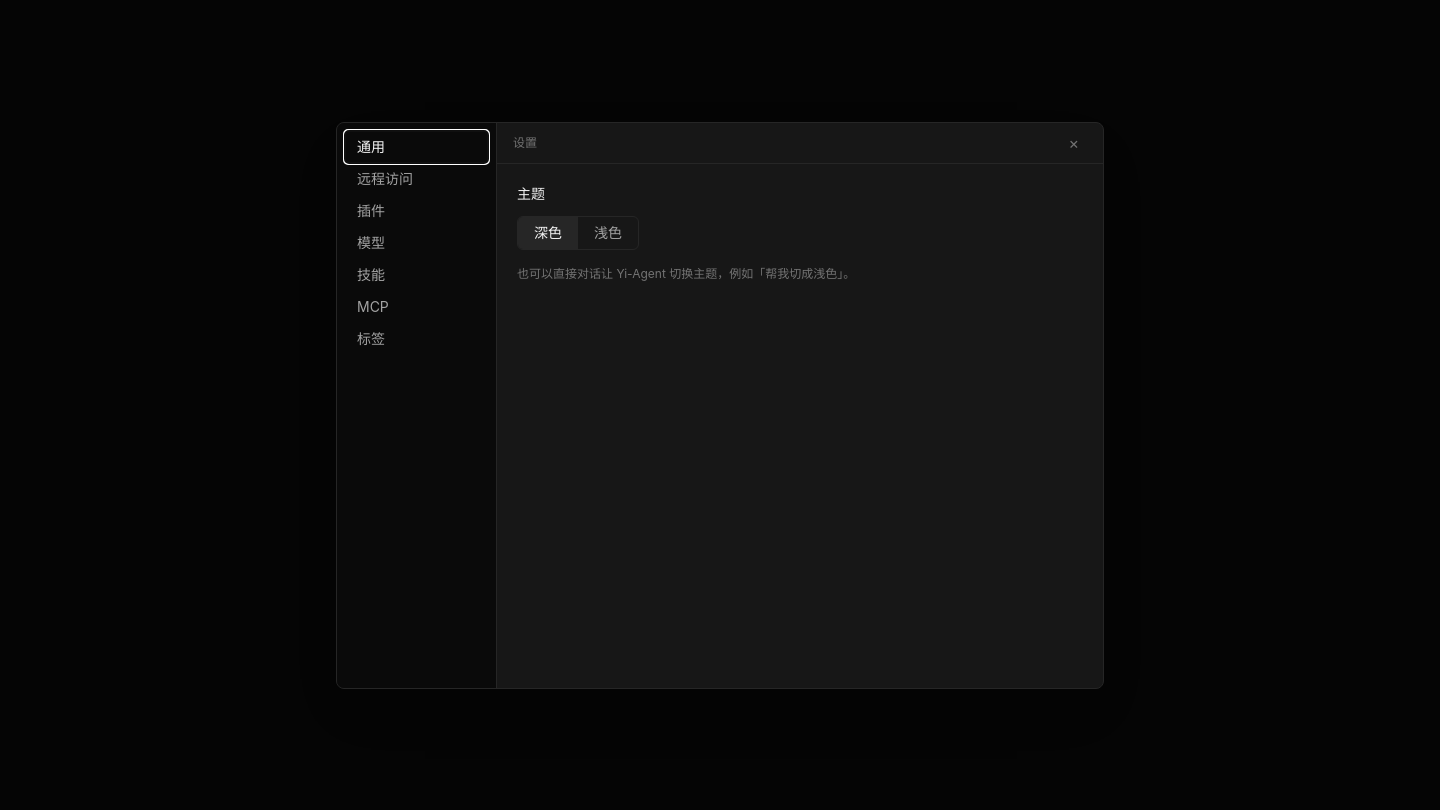
Test: SettingsDialog › switches to the 远程访问 tab and shows its panel
The image size is (1440, 810).
Click the tab "远程访问". click: x=416, y=178
box: x1=345 y1=162 x2=488 y2=194
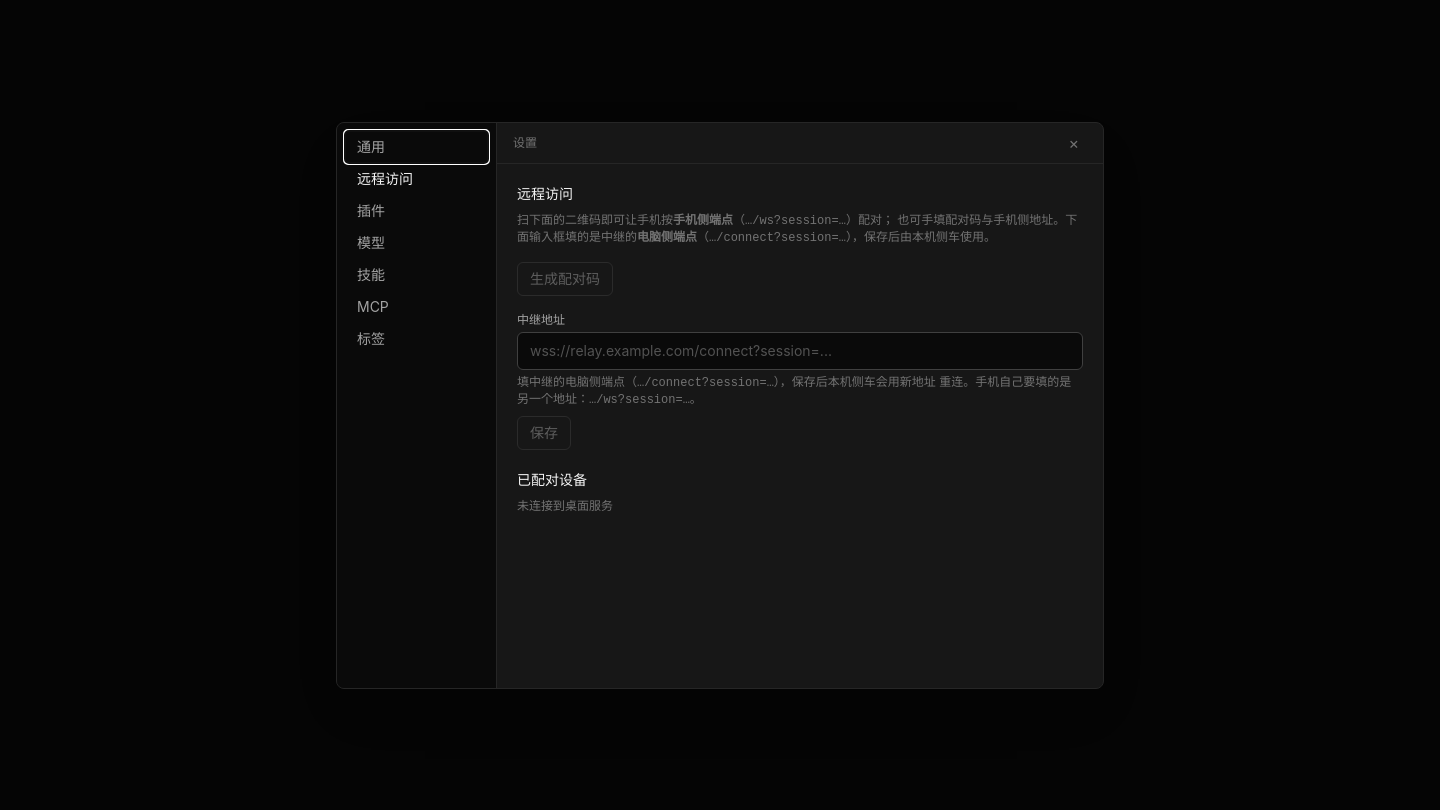
Expected: the button "生成配对码" is shown, x1=517 y1=262 x2=613 y2=296
Expected: the field labelled "中继地址" is shown, x1=517 y1=332 x2=1083 y2=370
Expected: the button "深色" is gone
